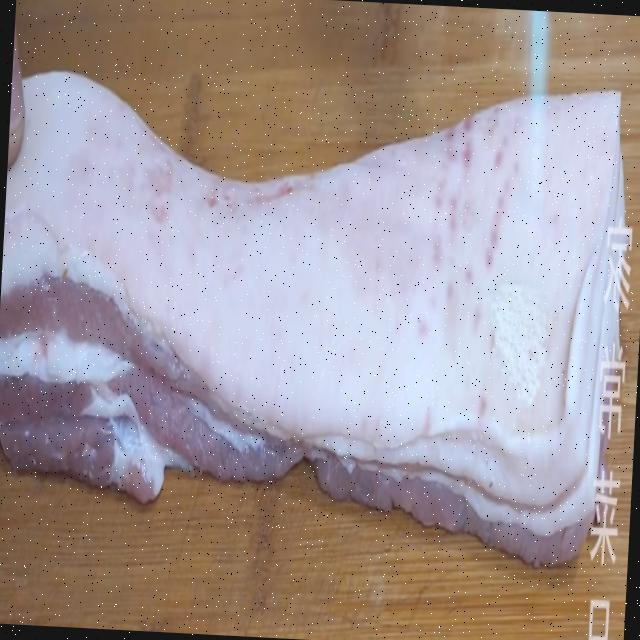meat: (2, 69, 621, 551)
